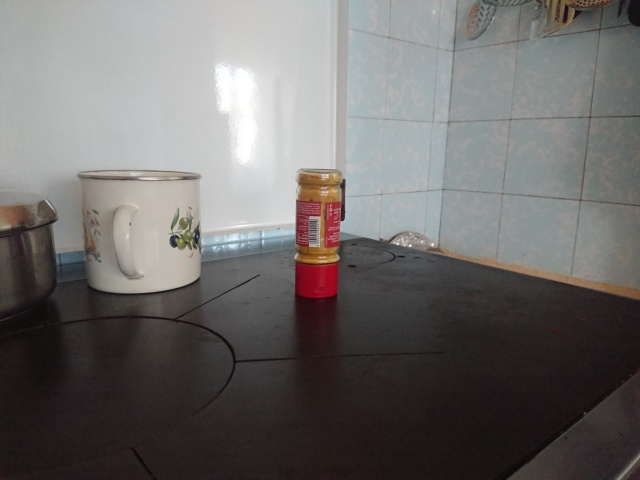Kotanyi Curry Spices Mix 70g: (293, 166, 343, 301)
